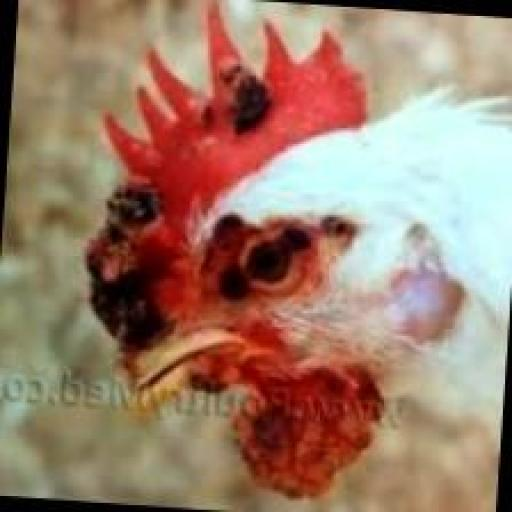disease: (165, 341, 395, 494), (48, 173, 188, 385), (159, 193, 389, 312), (187, 46, 289, 147)
